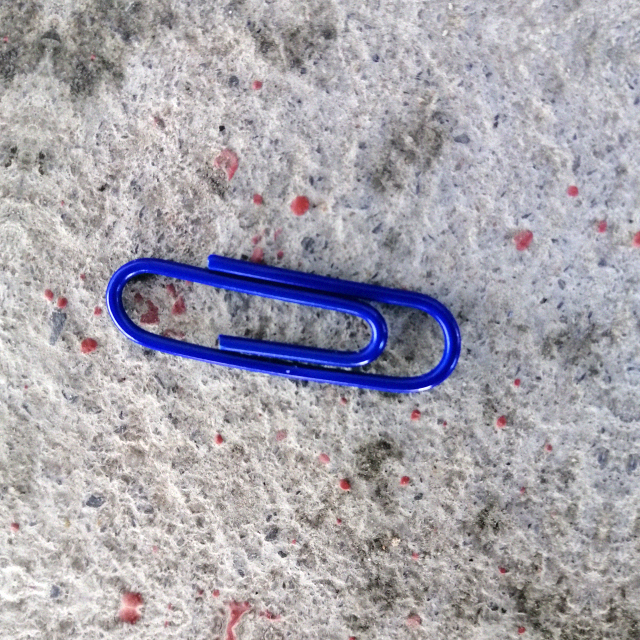pin: (103, 239, 462, 408)
